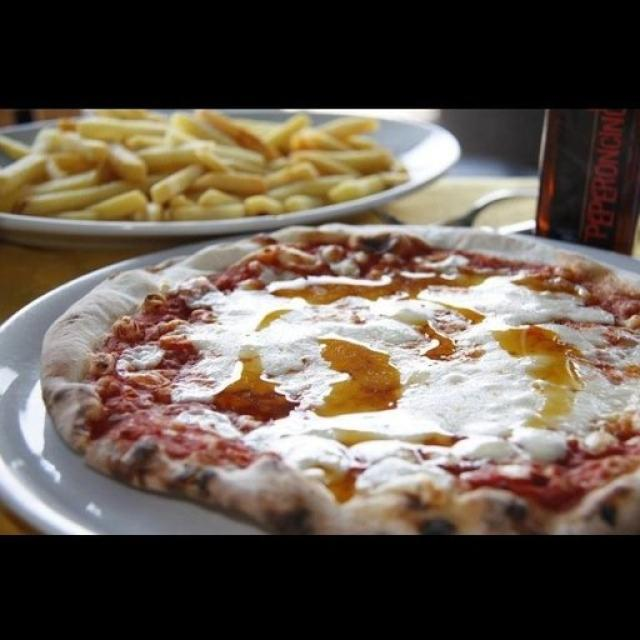Pizza: (45, 230, 640, 532)
